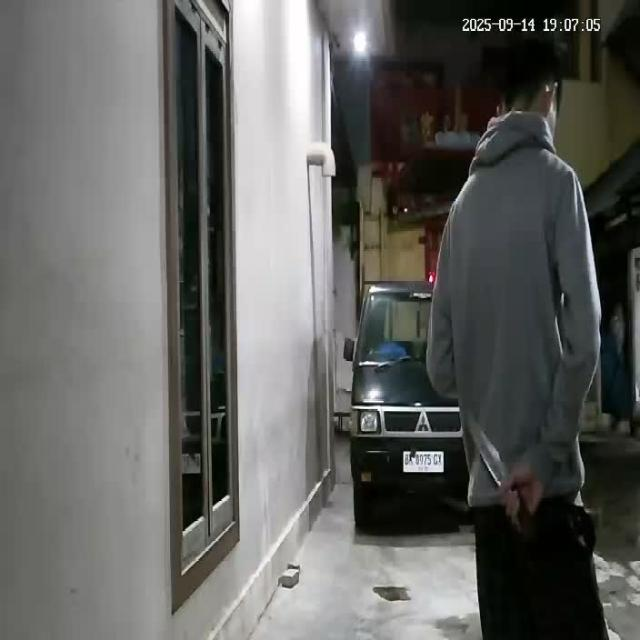senjata_tajam: (461, 407, 512, 488)
